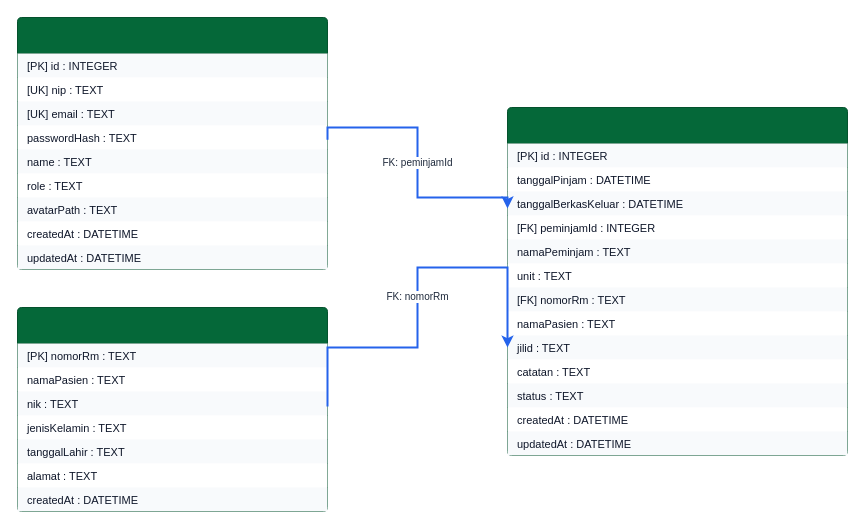
The diagram is 865 pixels wide and 529 high, and some of its shapes have lost their labels. The box of each missing label's shape, as (x1, y1, x2, y2) in pixels:
data_rm: (16, 306, 328, 512)
peminjaman: (506, 106, 848, 456)
users: (16, 16, 328, 270)
